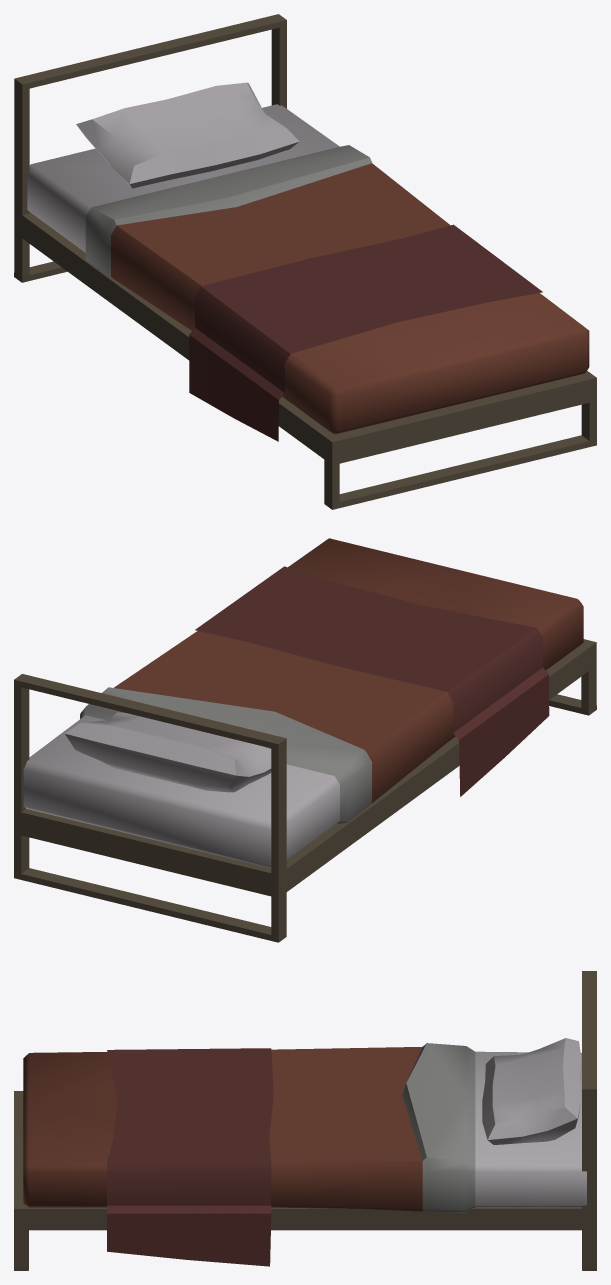
Rendered from bed-single.glb.
The picture shows the model from 3 angles, top to bottom: view 1: azimuth 30°, elevation 25°; view 2: azimuth 150°, elevation 25°; view 3: azimuth 270°, elevation 25°; orthographic projection. The views are drawn at different scales.
Visible parts, largest first — view 1: Bed_Single; view 2: Bed_Single; view 3: Bed_Single.
Boxes of the visible parts, x1,y1,x2,y2 form: Bed_Single: (14,14,596,509); Bed_Single: (14,538,596,942); Bed_Single: (14,971,596,1270).
Size of the model in its own units: 1.98 by 1.35 by 3.94.
1 material, 1 textured.
